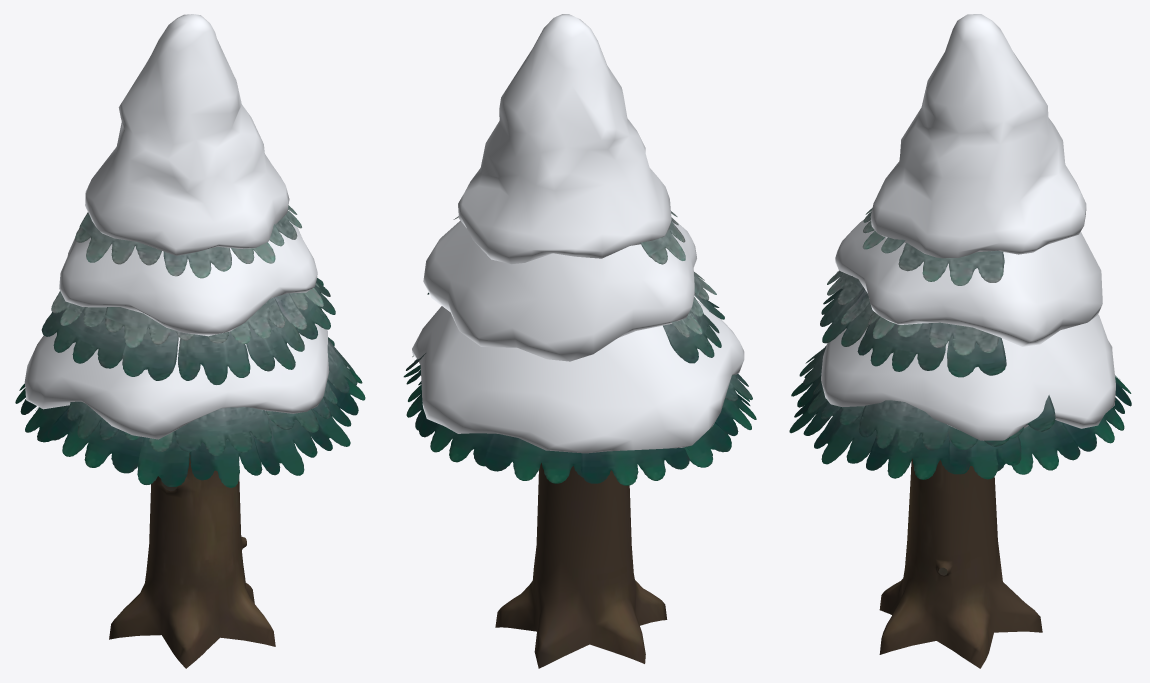
File: cedar-winter.glb
3 renders of one model, left to right at view 1: azimuth 30°, elevation 25°; view 2: azimuth 150°, elevation 25°; view 3: azimuth 270°, elevation 25°, orthographic. The views are drawn at different scales.
Size of the model in its own units: 21.67 by 40.51 by 20.61.
Materials: 3 (2 with a texture image).
